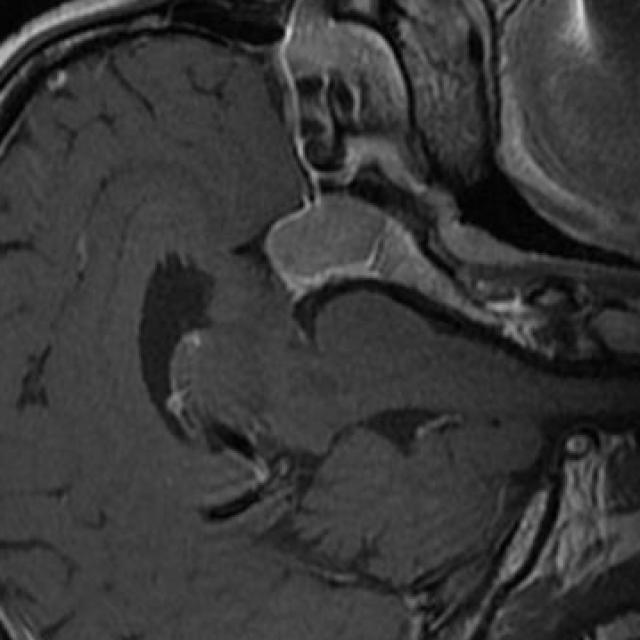pituitary: (264, 196, 387, 296)
